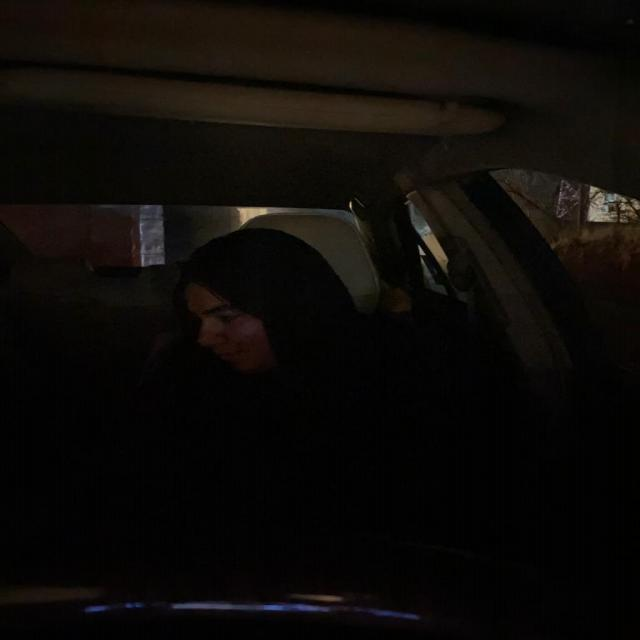person: (175, 223, 371, 394)
